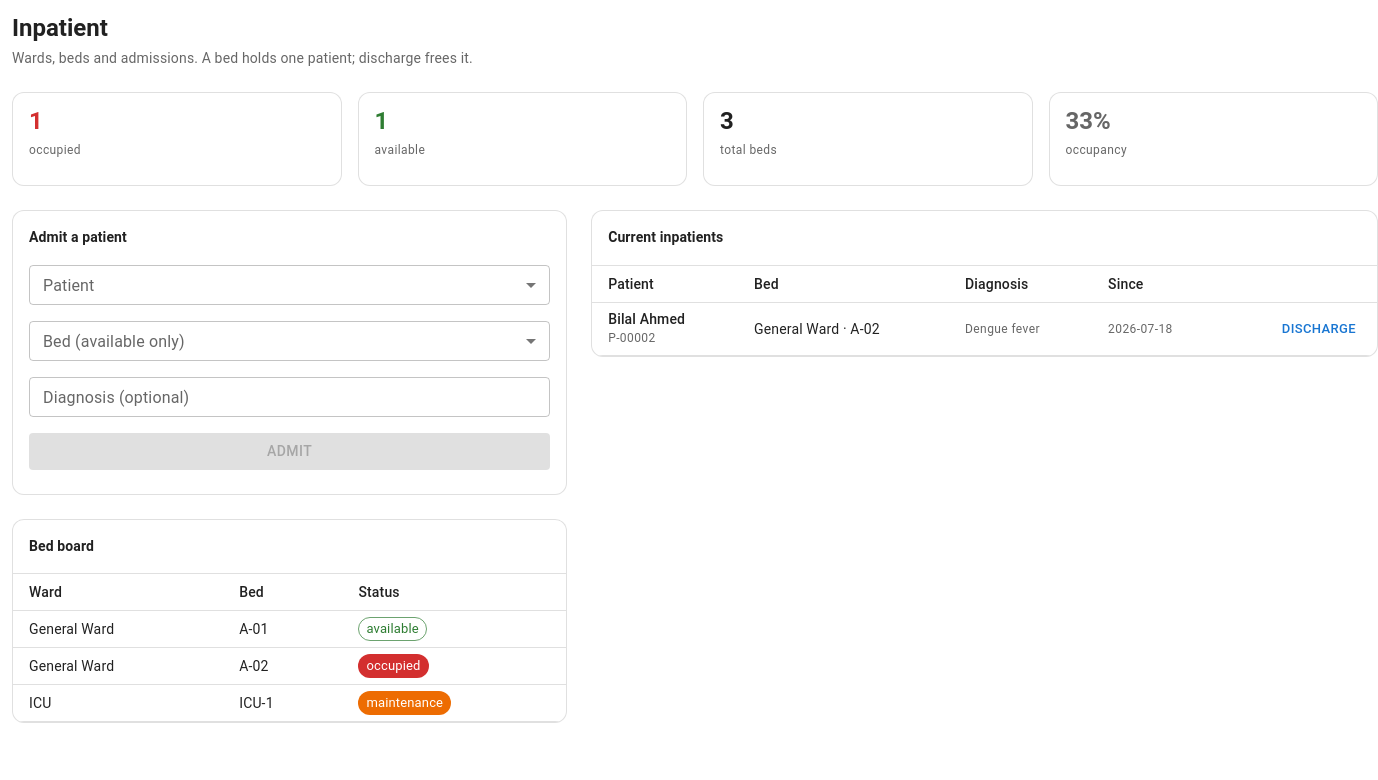
Test case: only a bed that is actually free can be admitted into › leaves occupied and maintenance beds out of the picker while still showing them on the board
The width and height of the screenshot is (1378, 780).
Check: the text "A-01" is shown, box left=223, top=611, right=342, bottom=648
Check: the text "A-02" is shown, box left=223, top=648, right=342, bottom=685
What coordinates should you click on to do the following:
click the dropdown named "Bed (available only)" next to "Bed (available only)"
I would click on:
 (290, 341)
Its box is left=29, top=321, right=550, bottom=361.
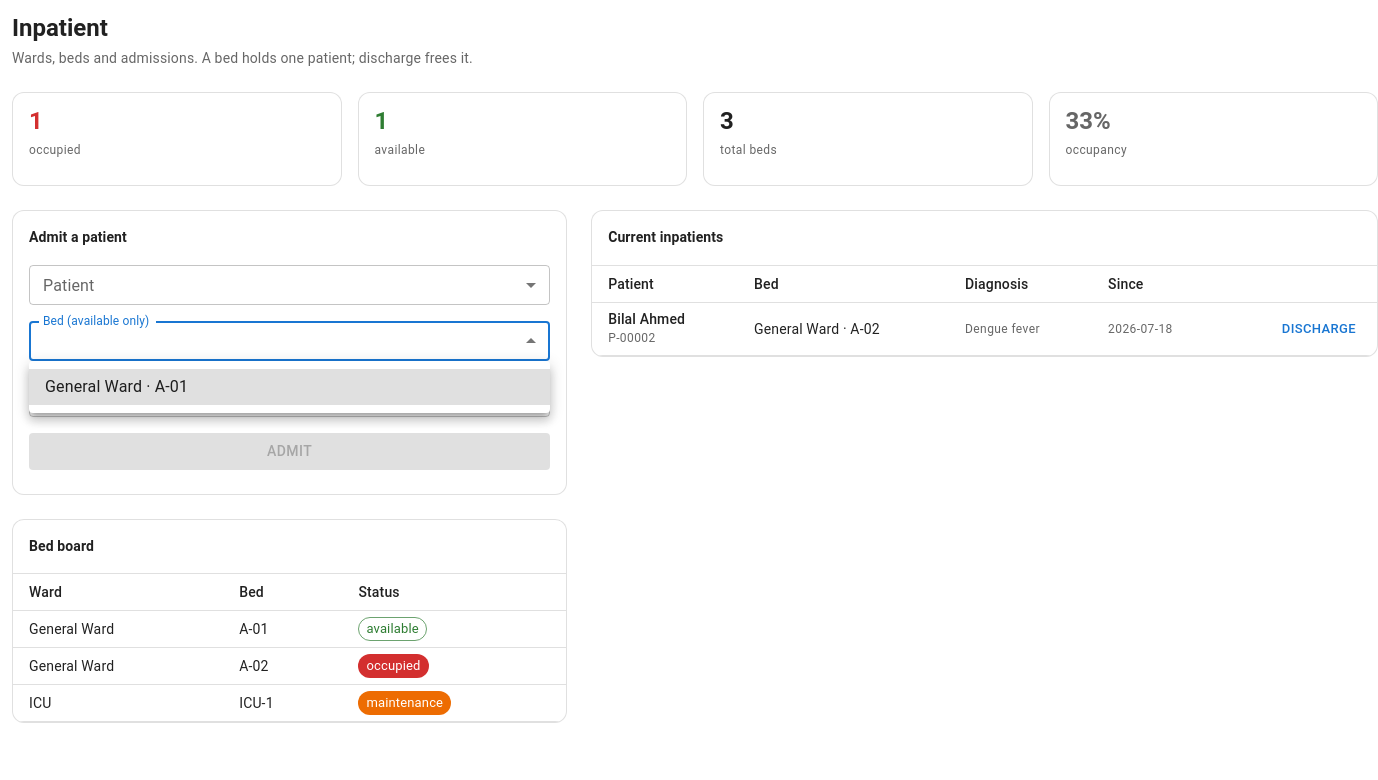
Check: the number of options is 1, box left=29, top=369, right=550, bottom=405
